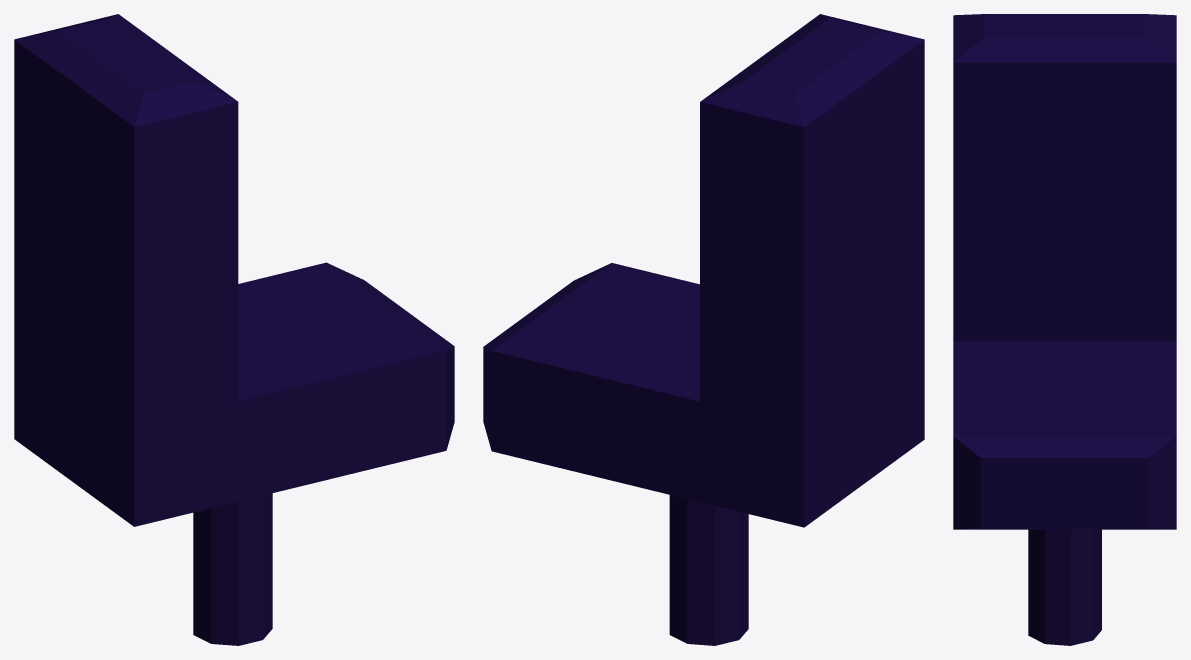
The model's file is seat.fbx.
3 renders of one model, left to right at view 1: azimuth 30°, elevation 25°; view 2: azimuth 150°, elevation 25°; view 3: azimuth 270°, elevation 25°, orthographic. The views are drawn at different scales.
Parts seen in each view (by area): view 1: Cube, Cylinder; view 2: Cube, Cylinder; view 3: Cube, Cylinder.
Boxes of the visible parts, x1,y1,x2,y2 form: Cube: [14, 14, 454, 526]; Cylinder: [193, 493, 272, 645]; Cube: [483, 14, 924, 527]; Cylinder: [669, 495, 748, 645]; Cube: [953, 14, 1176, 529]; Cylinder: [1028, 529, 1101, 645].
Size of the model in its own units: 323 by 550 by 200.
